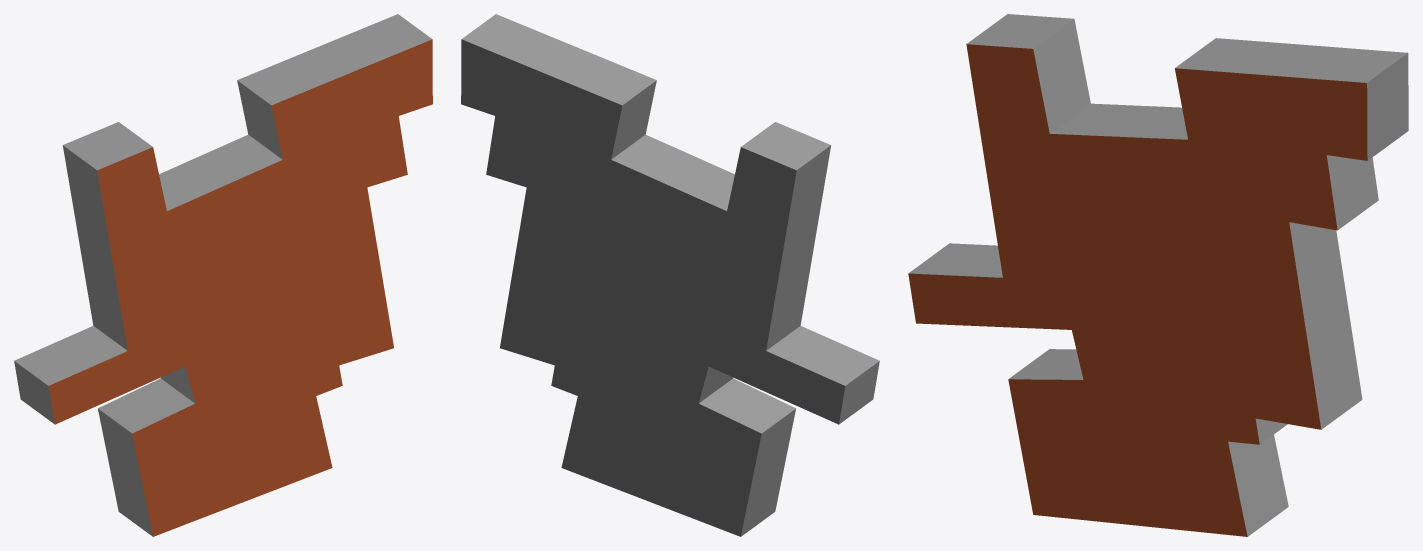
The model's file is construction_6764_assumed_A_Casa_h6m.obj.
3 renders of one model, left to right at view 1: azimuth 30°, elevation 25°; view 2: azimuth 150°, elevation 25°; view 3: azimuth 330°, elevation 25°, orthographic. The views are drawn at different scales.
Parts seen in each view (by area): view 1: construction_6764_assumed_A_Casa; view 2: construction_6764_assumed_A_Casa; view 3: construction_6764_assumed_A_Casa.
Part boxes in pixels (x1,y1,x2,y2): construction_6764_assumed_A_Casa: (14, 14, 432, 536); construction_6764_assumed_A_Casa: (461, 14, 879, 536); construction_6764_assumed_A_Casa: (908, 14, 1408, 536).
Bounding box in the file's own units: 38.61 × 41.25 × 6.
